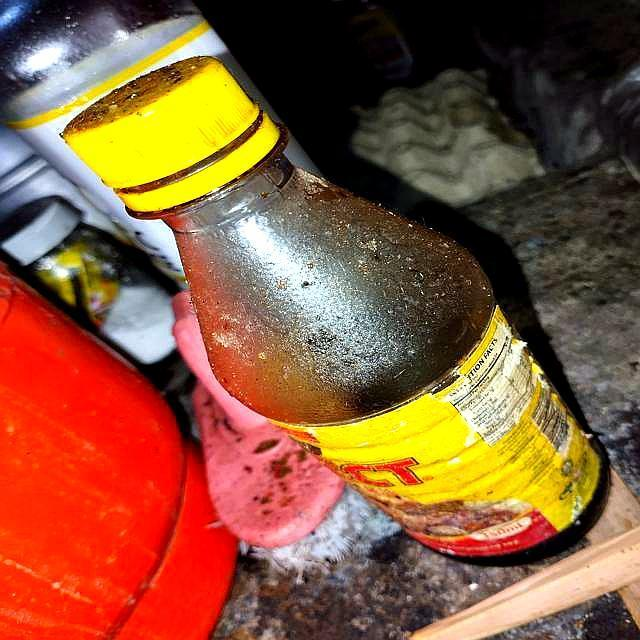Non-biodegradable: (45, 31, 629, 579)
